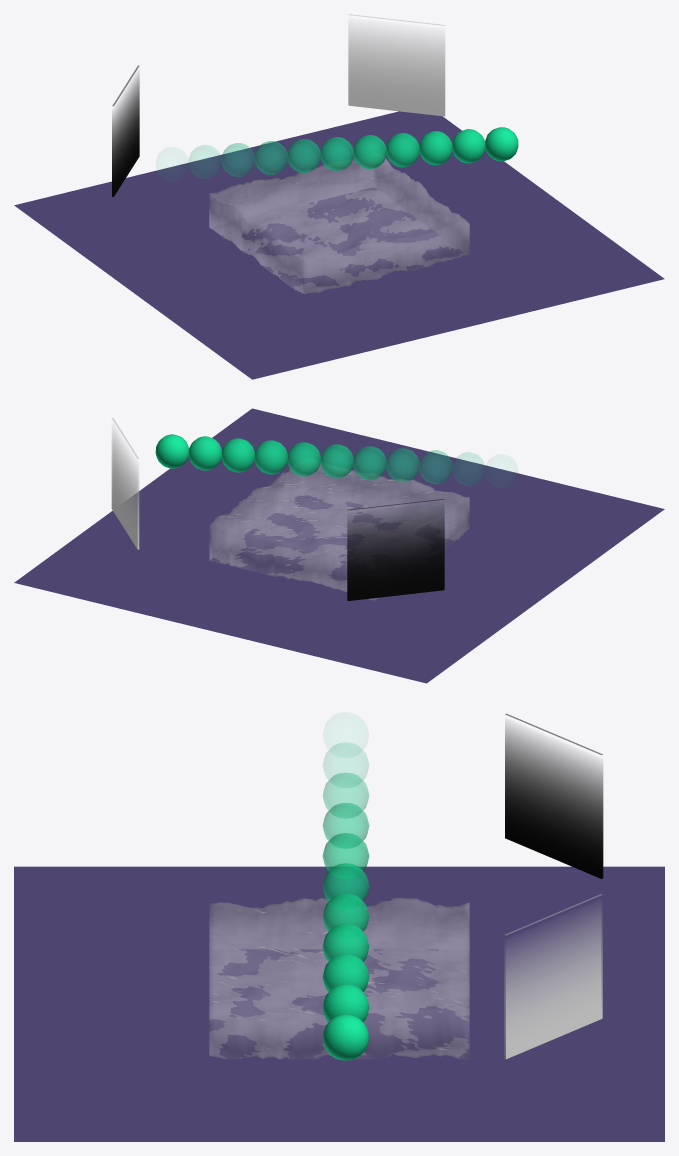
Rendered from transparency.glb.
The picture shows the model from 3 angles, top to bottom: view 1: azimuth 30°, elevation 25°; view 2: azimuth 150°, elevation 25°; view 3: azimuth 270°, elevation 25°; orthographic projection. The views are drawn at different scales.
Visible parts, largest first — view 1: Plane, Plane.003, Plane.001, Plane.002, Sphere.009, Sphere.008, Sphere.007, Sphere.010, Sphere.006, Sphere.005, Sphere.004, Sphere.003 (+2 smaller); view 2: Plane, Plane.003, Plane.002, Plane.001, Sphere.009, Sphere.010, Sphere.005, Sphere.006, Sphere.007, Sphere.008, Sphere.003, Sphere.004 (+2 smaller); view 3: Plane, Plane.003, Plane.001, Plane.002, Sphere.010, Sphere.003, Sphere.004, Sphere.002, Sphere.006, Sphere.005, Sphere.008, Sphere.009 (+2 smaller).
Boxes of the visible parts, x1,y1,x2,y2 form: Plane: [14, 111, 664, 379]; Plane.003: [209, 158, 469, 294]; Plane.001: [348, 14, 445, 116]; Plane.002: [112, 65, 139, 196]; Sphere.009: [452, 129, 485, 163]; Sphere.008: [419, 131, 452, 165]; Sphere.007: [386, 133, 419, 167]; Sphere.010: [485, 127, 518, 161]; Sphere.006: [353, 135, 386, 169]; Sphere.005: [320, 137, 353, 171]; Sphere.004: [287, 139, 320, 172]; Sphere.003: [254, 141, 287, 174]; Plane: [14, 408, 664, 683]; Plane.003: [209, 464, 469, 600]; Plane.002: [347, 499, 444, 601]; Plane.001: [111, 418, 139, 549]; Sphere.009: [188, 436, 221, 470]; Sphere.010: [155, 434, 188, 468]; Sphere.005: [320, 444, 353, 478]; Sphere.006: [287, 442, 320, 476]; Sphere.007: [254, 440, 287, 474]; Sphere.008: [221, 438, 254, 472]; Sphere.003: [386, 448, 419, 482]; Sphere.004: [353, 446, 386, 480]; Plane: [14, 866, 664, 1141]; Plane.003: [209, 898, 469, 1058]; Plane.001: [504, 894, 602, 1059]; Plane.002: [505, 713, 603, 878]; Sphere.010: [322, 1014, 369, 1060]; Sphere.003: [322, 803, 369, 848]; Sphere.004: [322, 833, 369, 878]; Sphere.002: [323, 773, 368, 817]; Sphere.006: [322, 893, 369, 931]; Sphere.005: [322, 863, 369, 901]; Sphere.008: [322, 954, 369, 991]; Sphere.009: [322, 984, 369, 1022].
Size of the model in its own units: 10 by 3.15 by 10.
15 materials, 2 textured.
